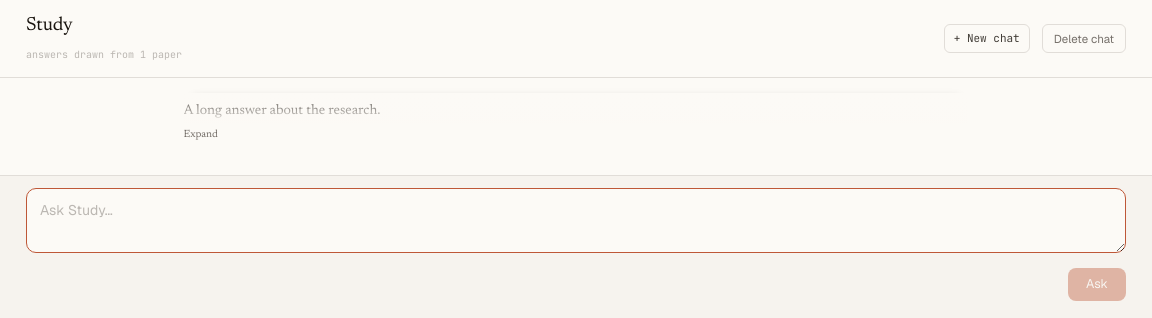
it: StudyChat answer scrolling › contains a long answer and expands it without the height cap
Expected: the element showing "A long answer about the research." is shown, [184, 104, 380, 118]
What coordinates should you click on to do the following:
click the button "Expand"
I would click on:
 (201, 135)
Its box is [184, 125, 218, 145].
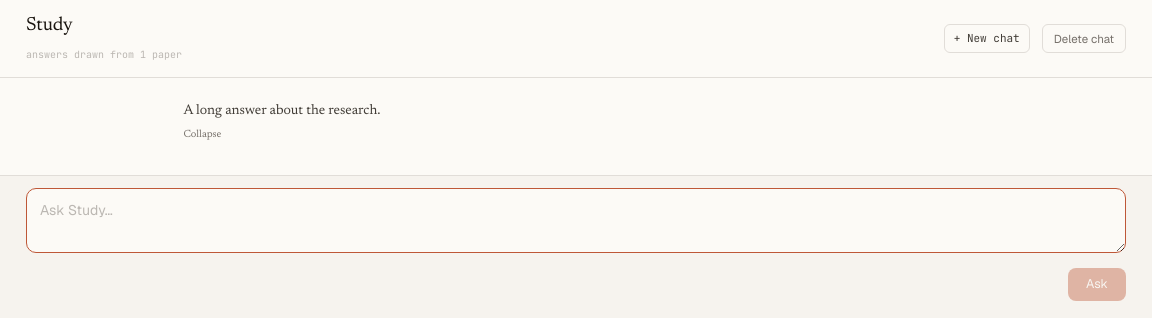
Expected: the button "Collapse" is expanded, [184, 125, 221, 145]
